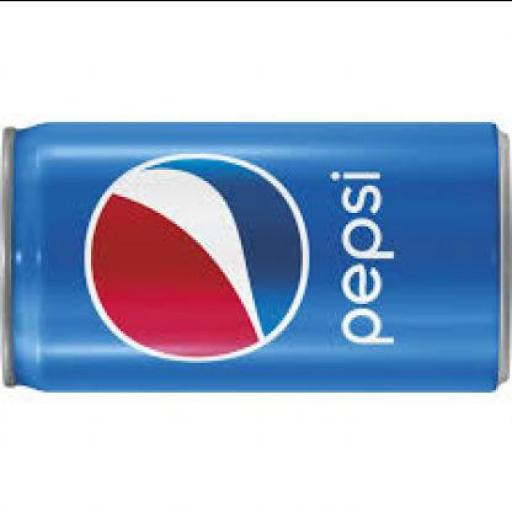metal: (0, 123, 510, 394)
